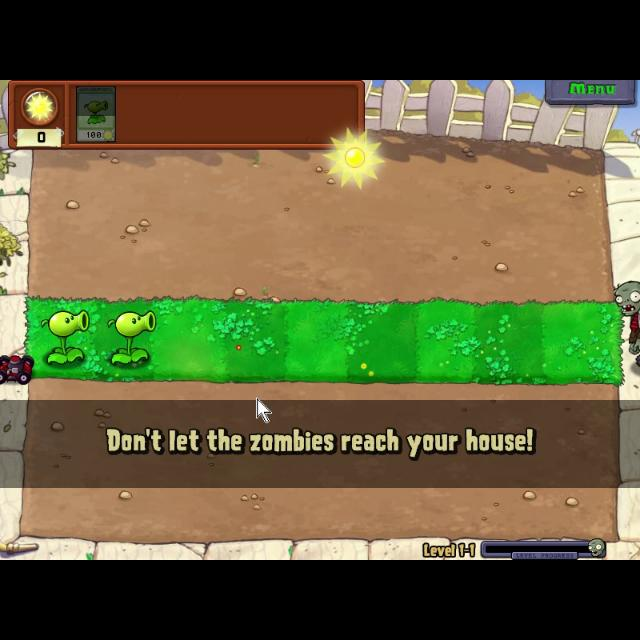Garden: (20, 294, 628, 391)
Menu Button: (544, 80, 636, 106)
Mower: (0, 349, 38, 388)
Peashooter: (74, 83, 118, 145)
Peashooter Seed: (38, 309, 92, 366), (104, 308, 156, 366)
Seed Panel: (8, 80, 368, 154)
Sun: (318, 121, 396, 195)
Zombie: (612, 276, 640, 370)
